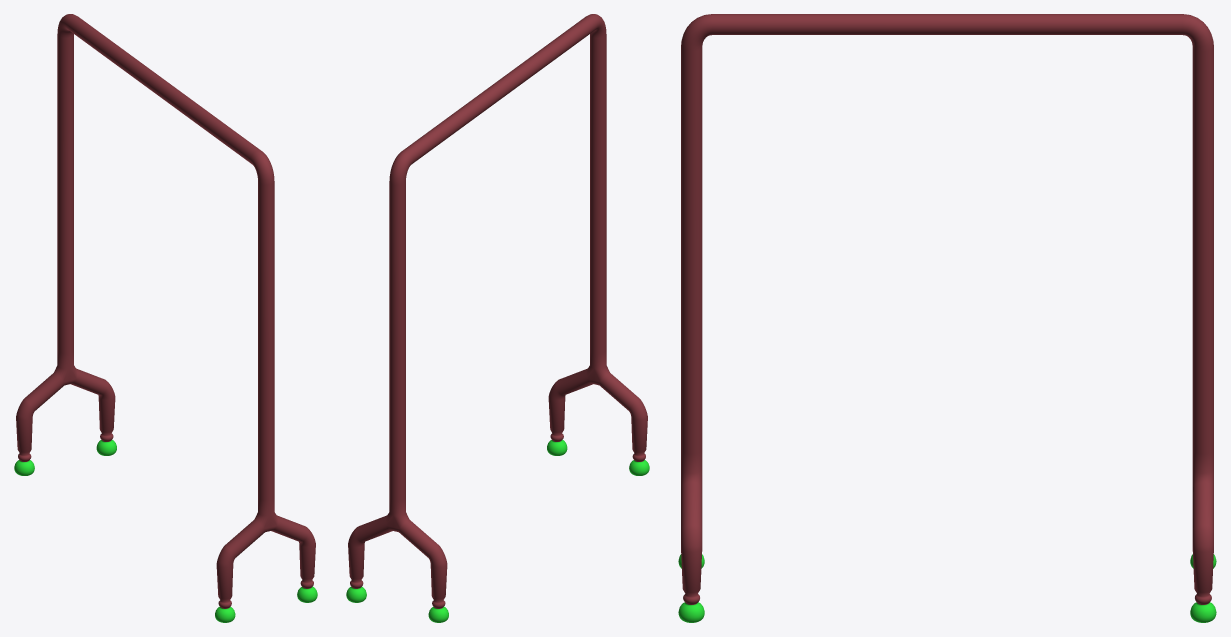
The model's file is CLOTHES RACK(v2.2).fbx.
3 renders of one model, left to right at view 1: azimuth 30°, elevation 25°; view 2: azimuth 150°, elevation 25°; view 3: azimuth 270°, elevation 25°, orthographic. The views are drawn at different scales.
Visible parts, largest first — view 1: Rack; view 2: Rack; view 3: Rack.
Boxes of the visible parts, x1,y1,x2,y2 form: Rack: (14,14,317,622); Rack: (346,14,649,622); Rack: (678,14,1216,622).
Bounding box in the file's own units: 1378 × 5982 × 5028.
